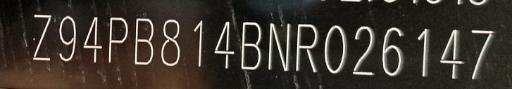letter: (469, 26, 499, 81), (350, 22, 378, 79), (437, 27, 467, 80), (294, 22, 320, 77), (238, 18, 264, 71), (322, 23, 348, 76), (378, 25, 404, 78), (28, 11, 54, 62), (56, 12, 80, 65), (105, 13, 129, 66), (266, 20, 290, 73), (159, 17, 183, 68), (212, 19, 236, 70), (82, 13, 104, 66), (133, 15, 155, 66), (190, 17, 206, 72), (415, 25, 431, 78)
